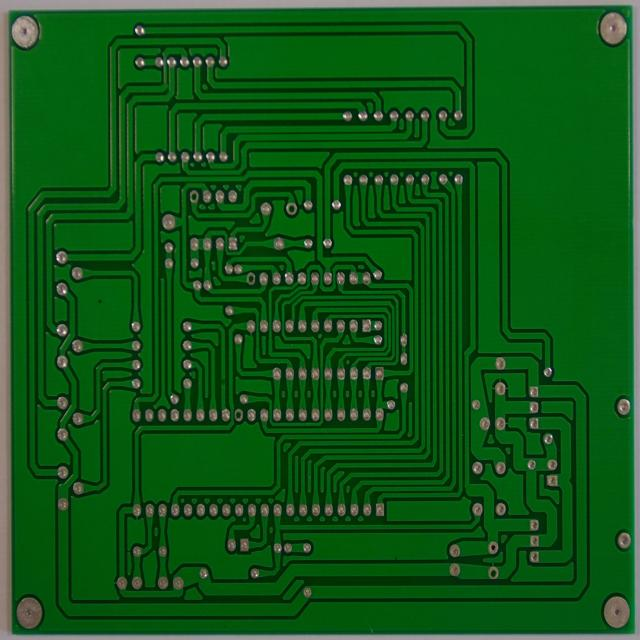missing_hole: (243, 270, 258, 288), (285, 199, 299, 218), (187, 188, 201, 205), (232, 406, 245, 423), (487, 565, 499, 581)
